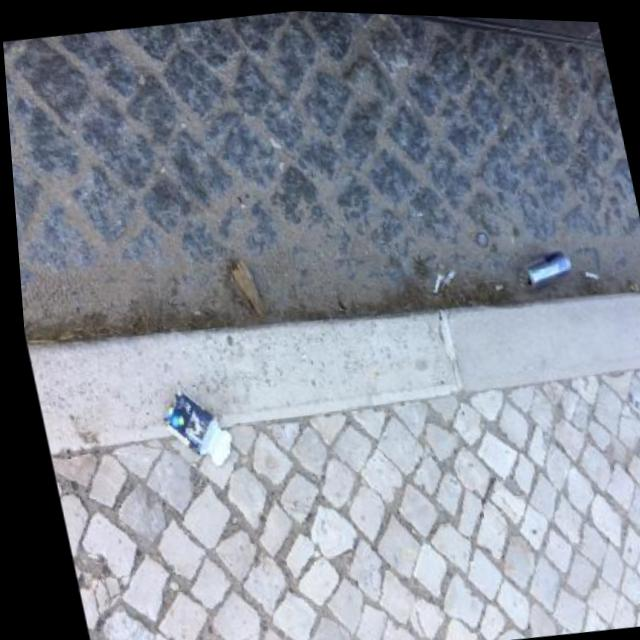cardboard: (156, 383, 238, 474)
metal: (510, 247, 575, 296)
